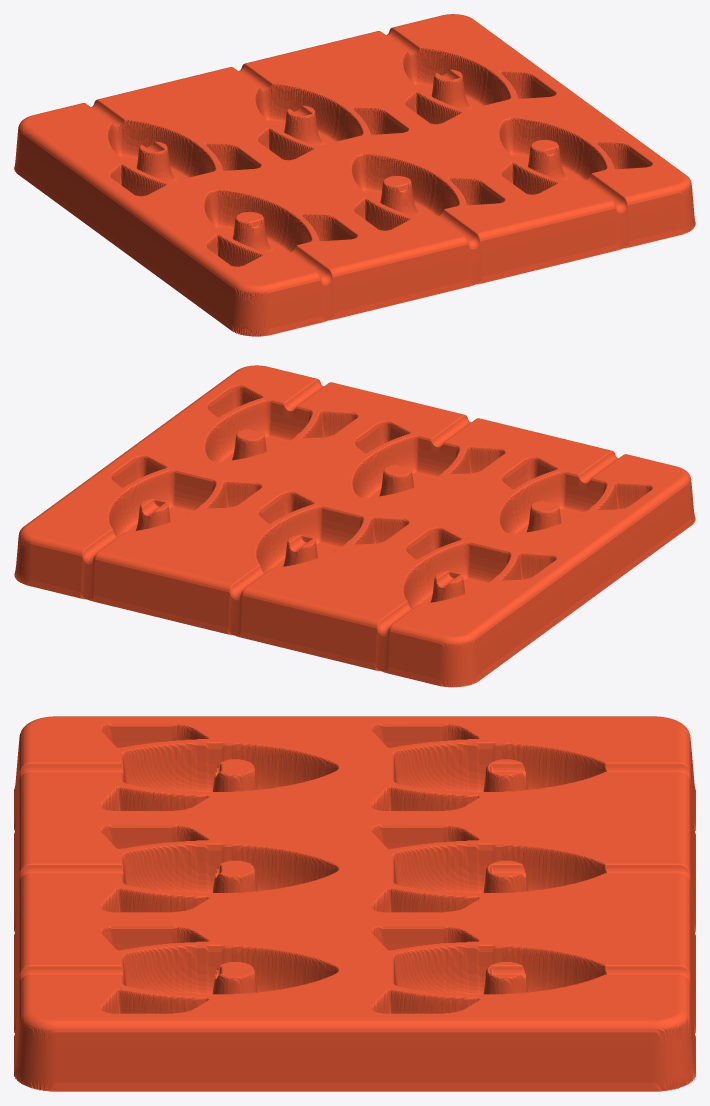
File: mold.glb
The picture shows the model from 3 angles, top to bottom: view 1: azimuth 30°, elevation 25°; view 2: azimuth 150°, elevation 25°; view 3: azimuth 270°, elevation 25°; orthographic projection. The views are drawn at different scales.
Visible parts, largest first — view 1: geometry_0; view 2: geometry_0; view 3: geometry_0.
Part boxes in pixels (box(x1,y1,x2,y2)): geometry_0: box(14, 14, 695, 336); geometry_0: box(14, 365, 695, 687); geometry_0: box(14, 716, 695, 1091).
Size of the model in its own units: 0.1621 by 0.0155 by 0.1477.
